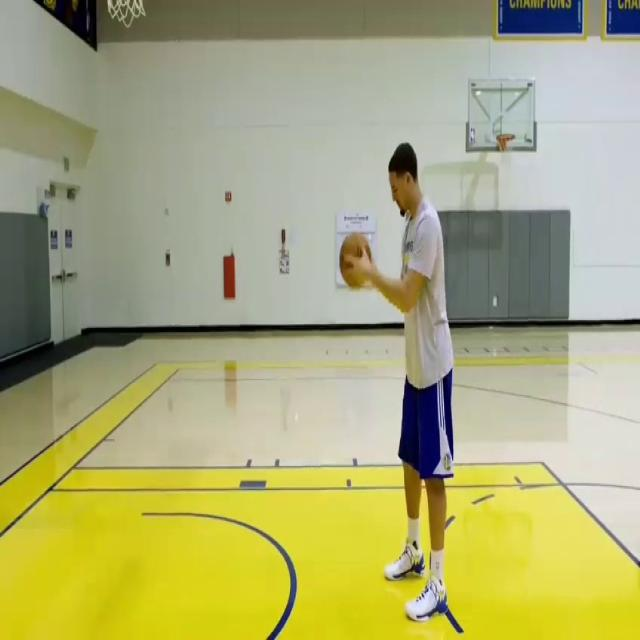ball: (339, 232, 372, 290)
